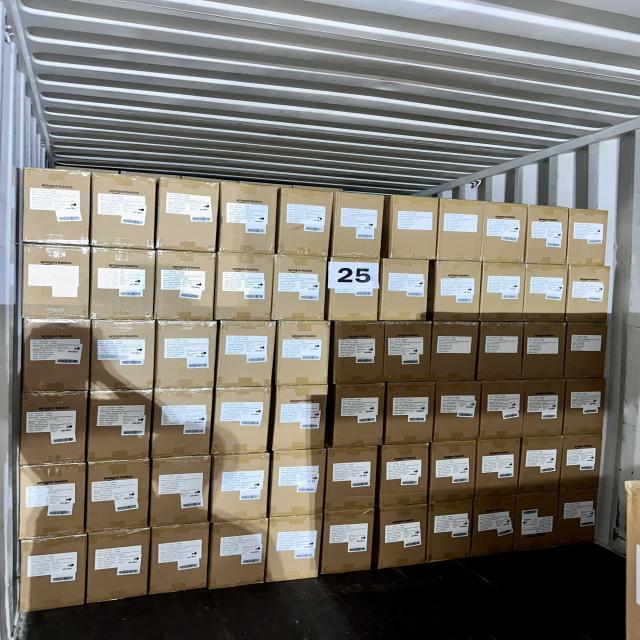Carton: (21, 168, 88, 247), (20, 246, 88, 323), (21, 538, 89, 614), (24, 319, 91, 393), (21, 462, 88, 536), (90, 172, 154, 249), (93, 249, 158, 324), (20, 394, 86, 467), (86, 390, 150, 464), (85, 531, 148, 606), (156, 176, 217, 253), (89, 320, 154, 392), (88, 460, 151, 533), (154, 250, 215, 322), (151, 524, 211, 597), (152, 457, 212, 529), (218, 181, 275, 255), (158, 319, 218, 389), (210, 522, 268, 594), (153, 390, 214, 458), (212, 386, 270, 454), (212, 456, 270, 524), (215, 253, 272, 322), (219, 321, 277, 388), (270, 448, 326, 517), (272, 383, 328, 451), (279, 188, 331, 260), (267, 515, 321, 583), (332, 187, 383, 258), (274, 255, 328, 322), (276, 318, 329, 386), (334, 321, 386, 386), (322, 513, 374, 578), (390, 192, 440, 259), (328, 258, 380, 322), (334, 386, 386, 450), (328, 448, 378, 514), (378, 444, 427, 509), (378, 258, 427, 323), (381, 504, 429, 570), (387, 384, 436, 446), (430, 322, 478, 384), (434, 261, 482, 322), (382, 322, 429, 384), (428, 442, 474, 504), (427, 500, 471, 563), (437, 198, 481, 260), (472, 496, 516, 558), (433, 382, 478, 442), (482, 262, 526, 323), (480, 321, 524, 382), (483, 200, 526, 262), (477, 437, 520, 498), (480, 380, 523, 440), (518, 494, 561, 554), (529, 203, 571, 263), (528, 265, 570, 325), (526, 322, 568, 381), (566, 266, 608, 324), (523, 434, 564, 493), (561, 431, 602, 490), (558, 488, 598, 548), (564, 376, 606, 433), (526, 379, 566, 438), (568, 206, 606, 265), (566, 323, 606, 379)
